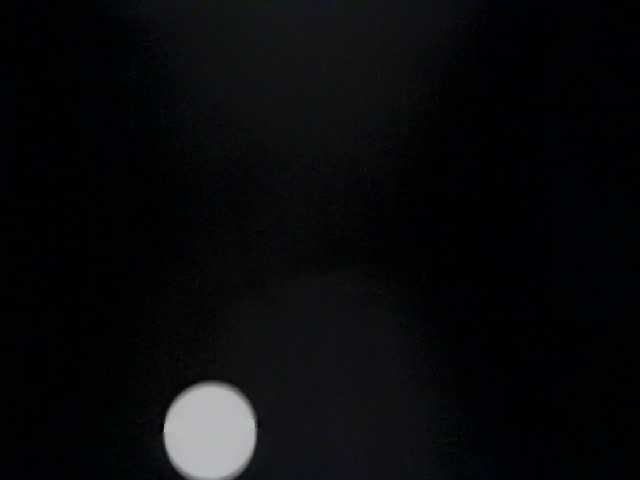YHLJ: (352, 224, 440, 347)
